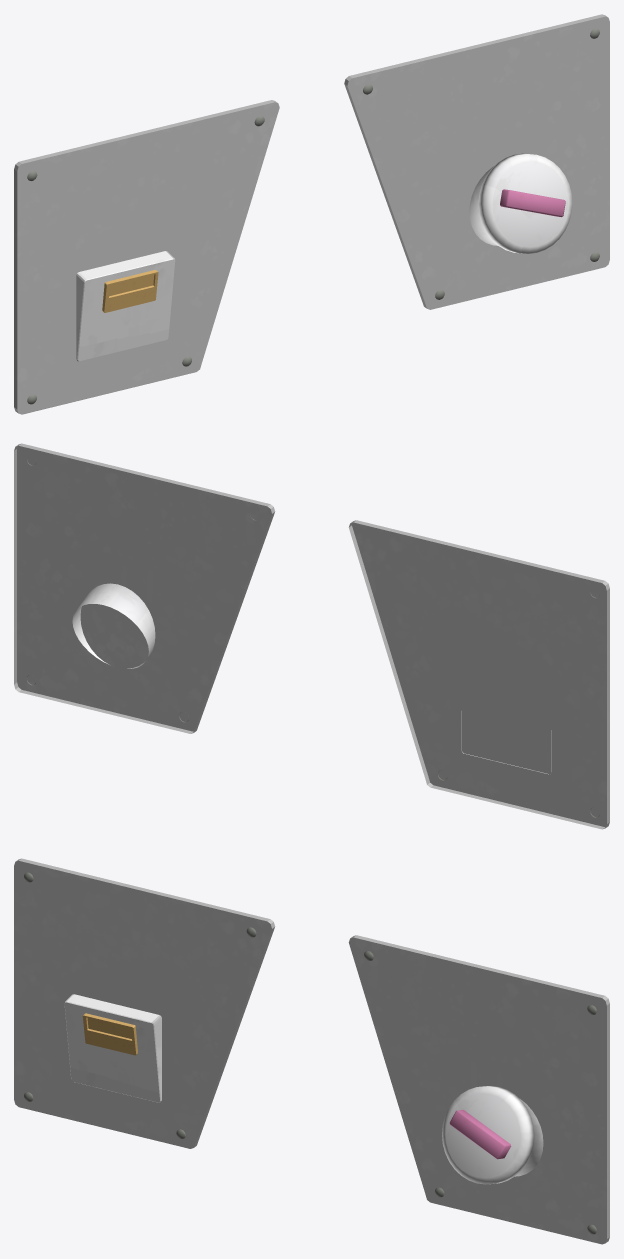
File: ExpLab_Signage00.fbx
3 renders of one model, top to bottom at view 1: azimuth 30°, elevation 25°; view 2: azimuth 150°, elevation 25°; view 3: azimuth 330°, elevation 25°, orthographic.
Visible parts, largest first — view 1: FeederSignage00, WaterStabiSignage00; view 2: FeederSignage00, WaterStabiSignage00; view 3: WaterStabiSignage00, FeederSignage00.
Boxes of the visible parts, x1,y1,x2,y2 form: FeederSignage00: [14, 100, 279, 414]; WaterStabiSignage00: [344, 14, 609, 309]; FeederSignage00: [348, 520, 609, 829]; WaterStabiSignage00: [14, 443, 275, 733]; WaterStabiSignage00: [348, 935, 609, 1244]; FeederSignage00: [14, 858, 275, 1148].
Bounding box in the file's own units: 730 × 292 × 99.64.
